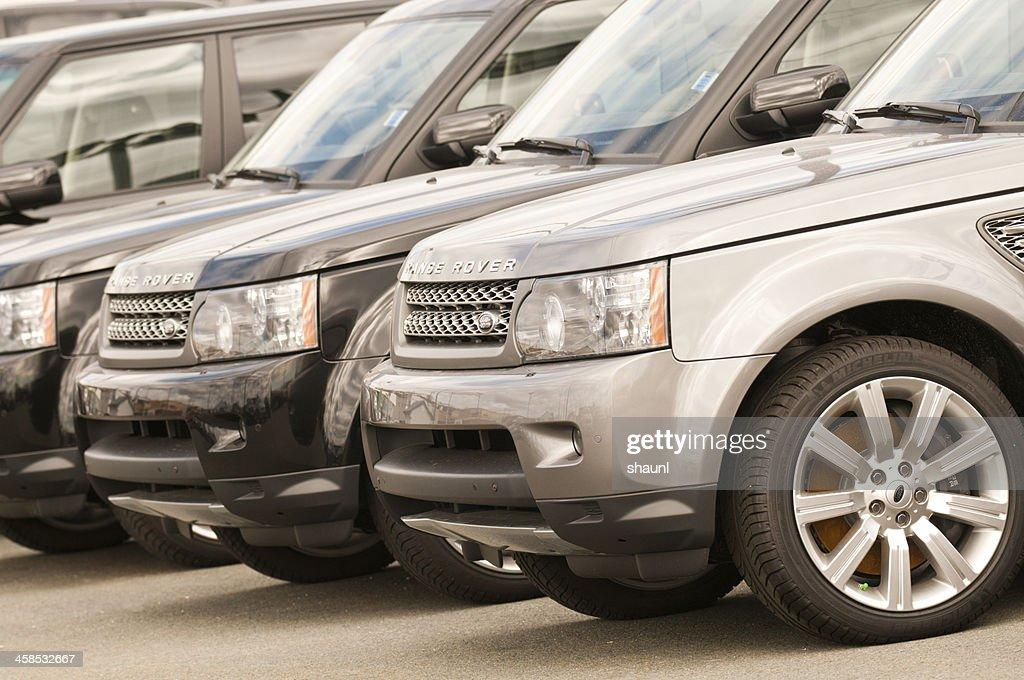range rover: (381, 247, 540, 286), (91, 265, 213, 290)
